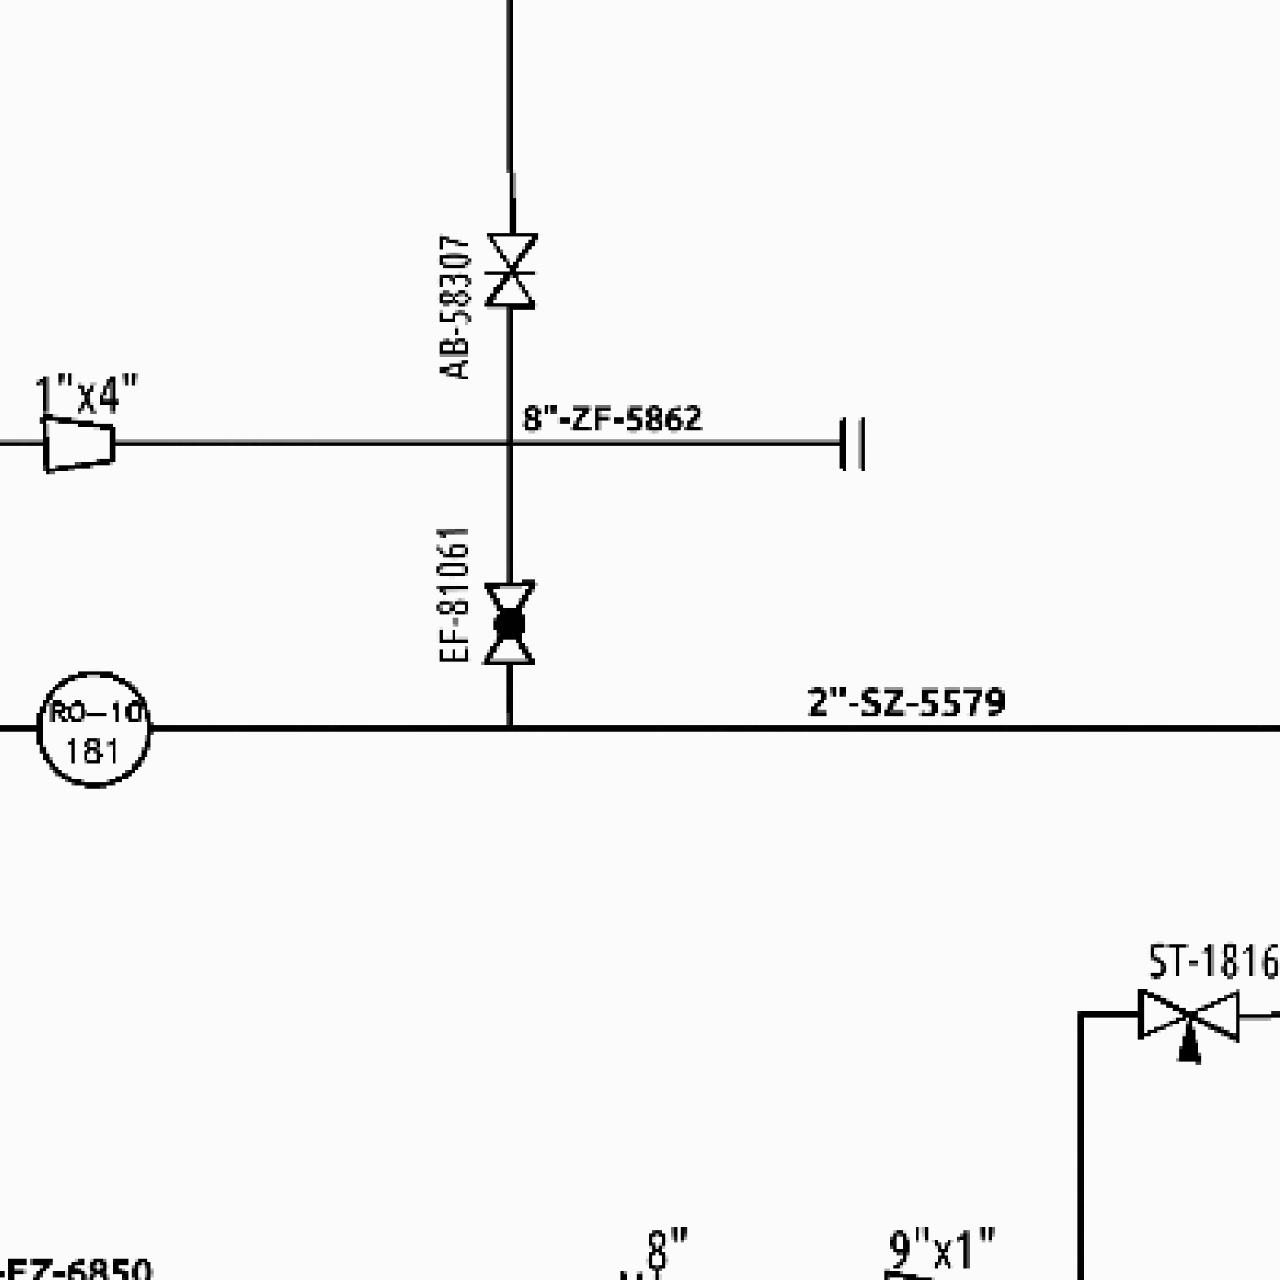Control-Panel: (29, 665, 156, 791)
